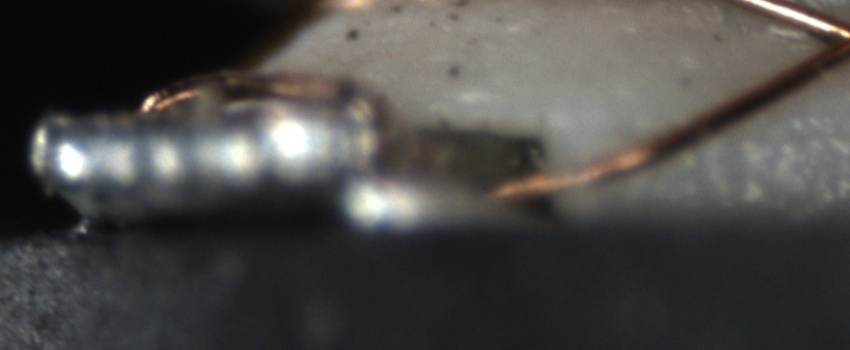CL: (797, 9, 850, 79)
DL: (720, 119, 849, 161)
TE: (127, 64, 367, 127)
